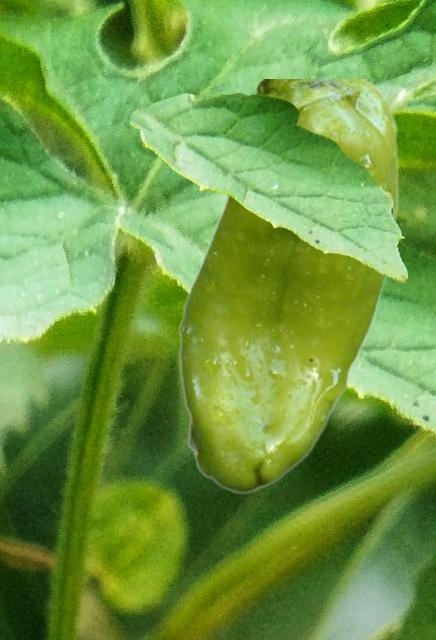green_chili: (178, 79, 397, 493)
